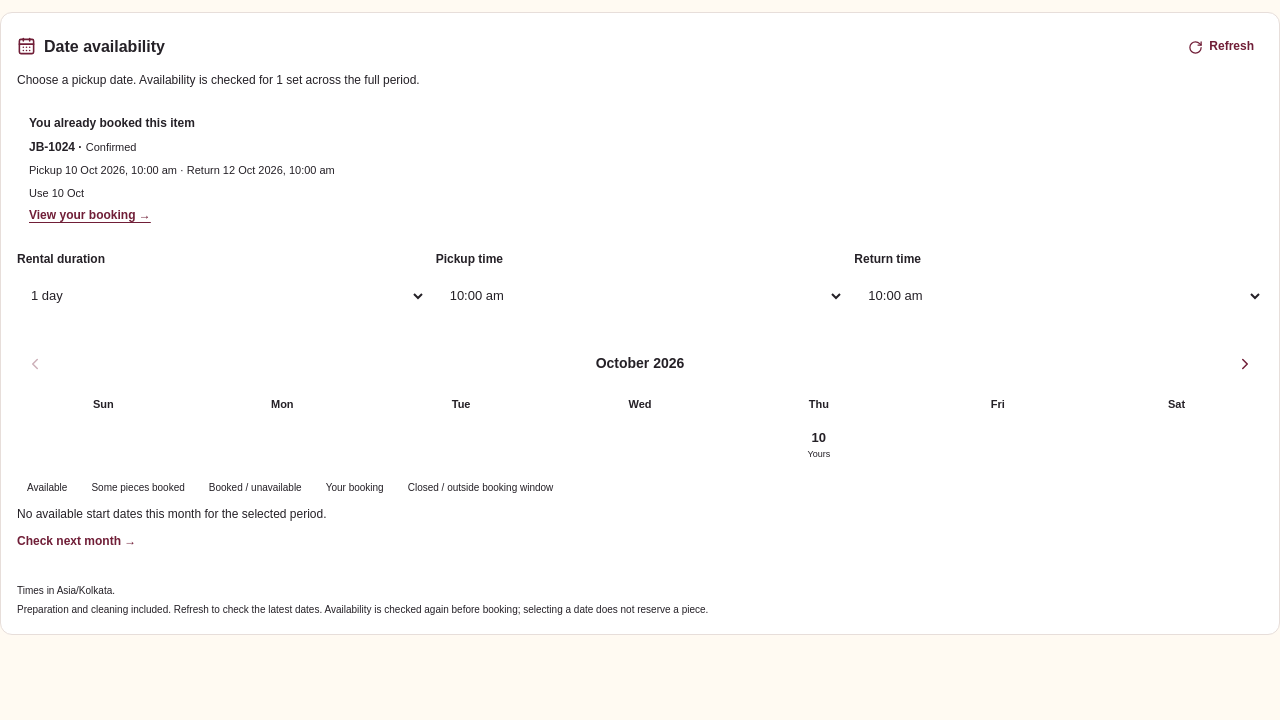
Test case: an existing own booking is visible even when another physical piece remains available
The width and height of the screenshot is (1280, 720).
expect the text "You already booked this item" is shown: met, box 29,116 -> 195,130
Click the button "10 Yours" at (819, 446), box 732,424 -> 905,468
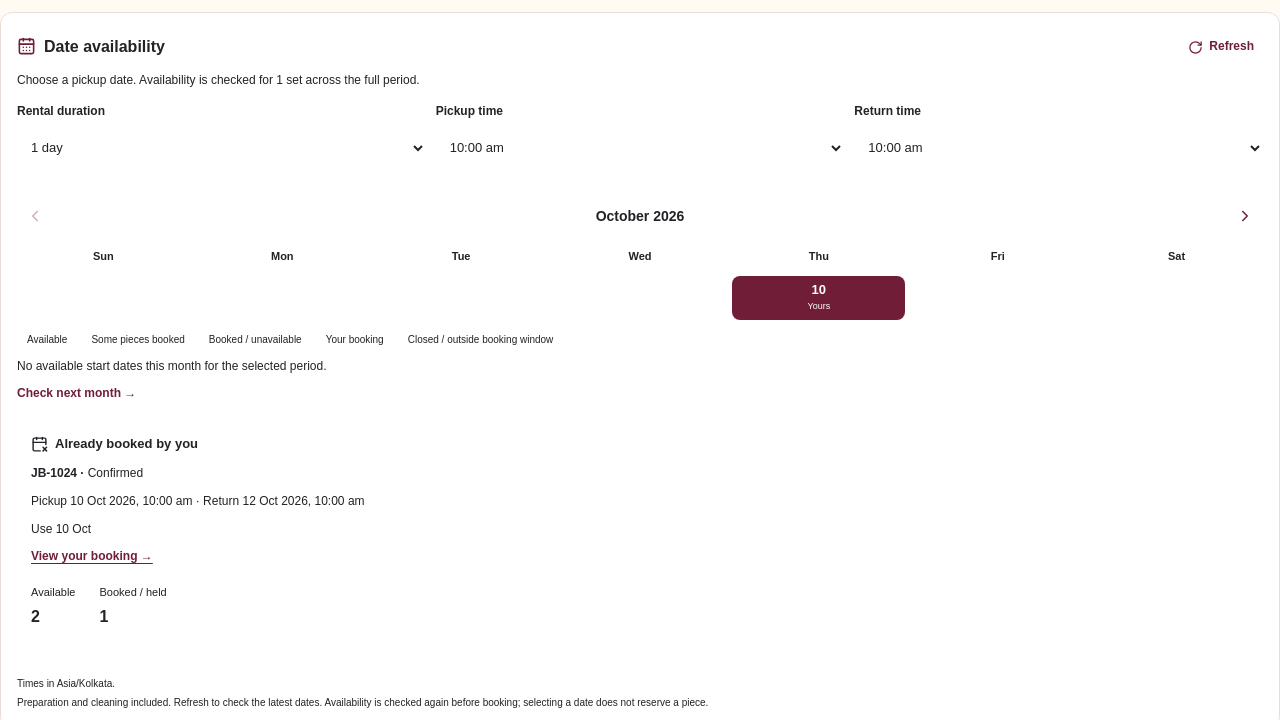
expect the text "Already booked by you" is shown: met, box 31,436 -> 198,453
expect the text "Booked / held" is shown: met, box 100,585 -> 167,601
